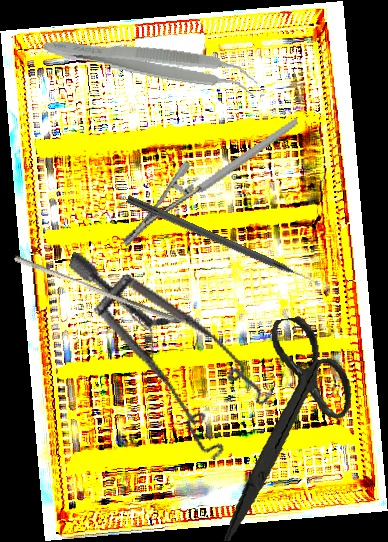Hook Surgical: (124, 195, 320, 289)
Iris Scissors: (192, 311, 370, 542)
Needle Holder: (104, 117, 318, 249)
Pusher: (11, 254, 178, 323)
Speculum: (26, 251, 296, 471)
Tissue Forceps: (40, 32, 262, 98)
